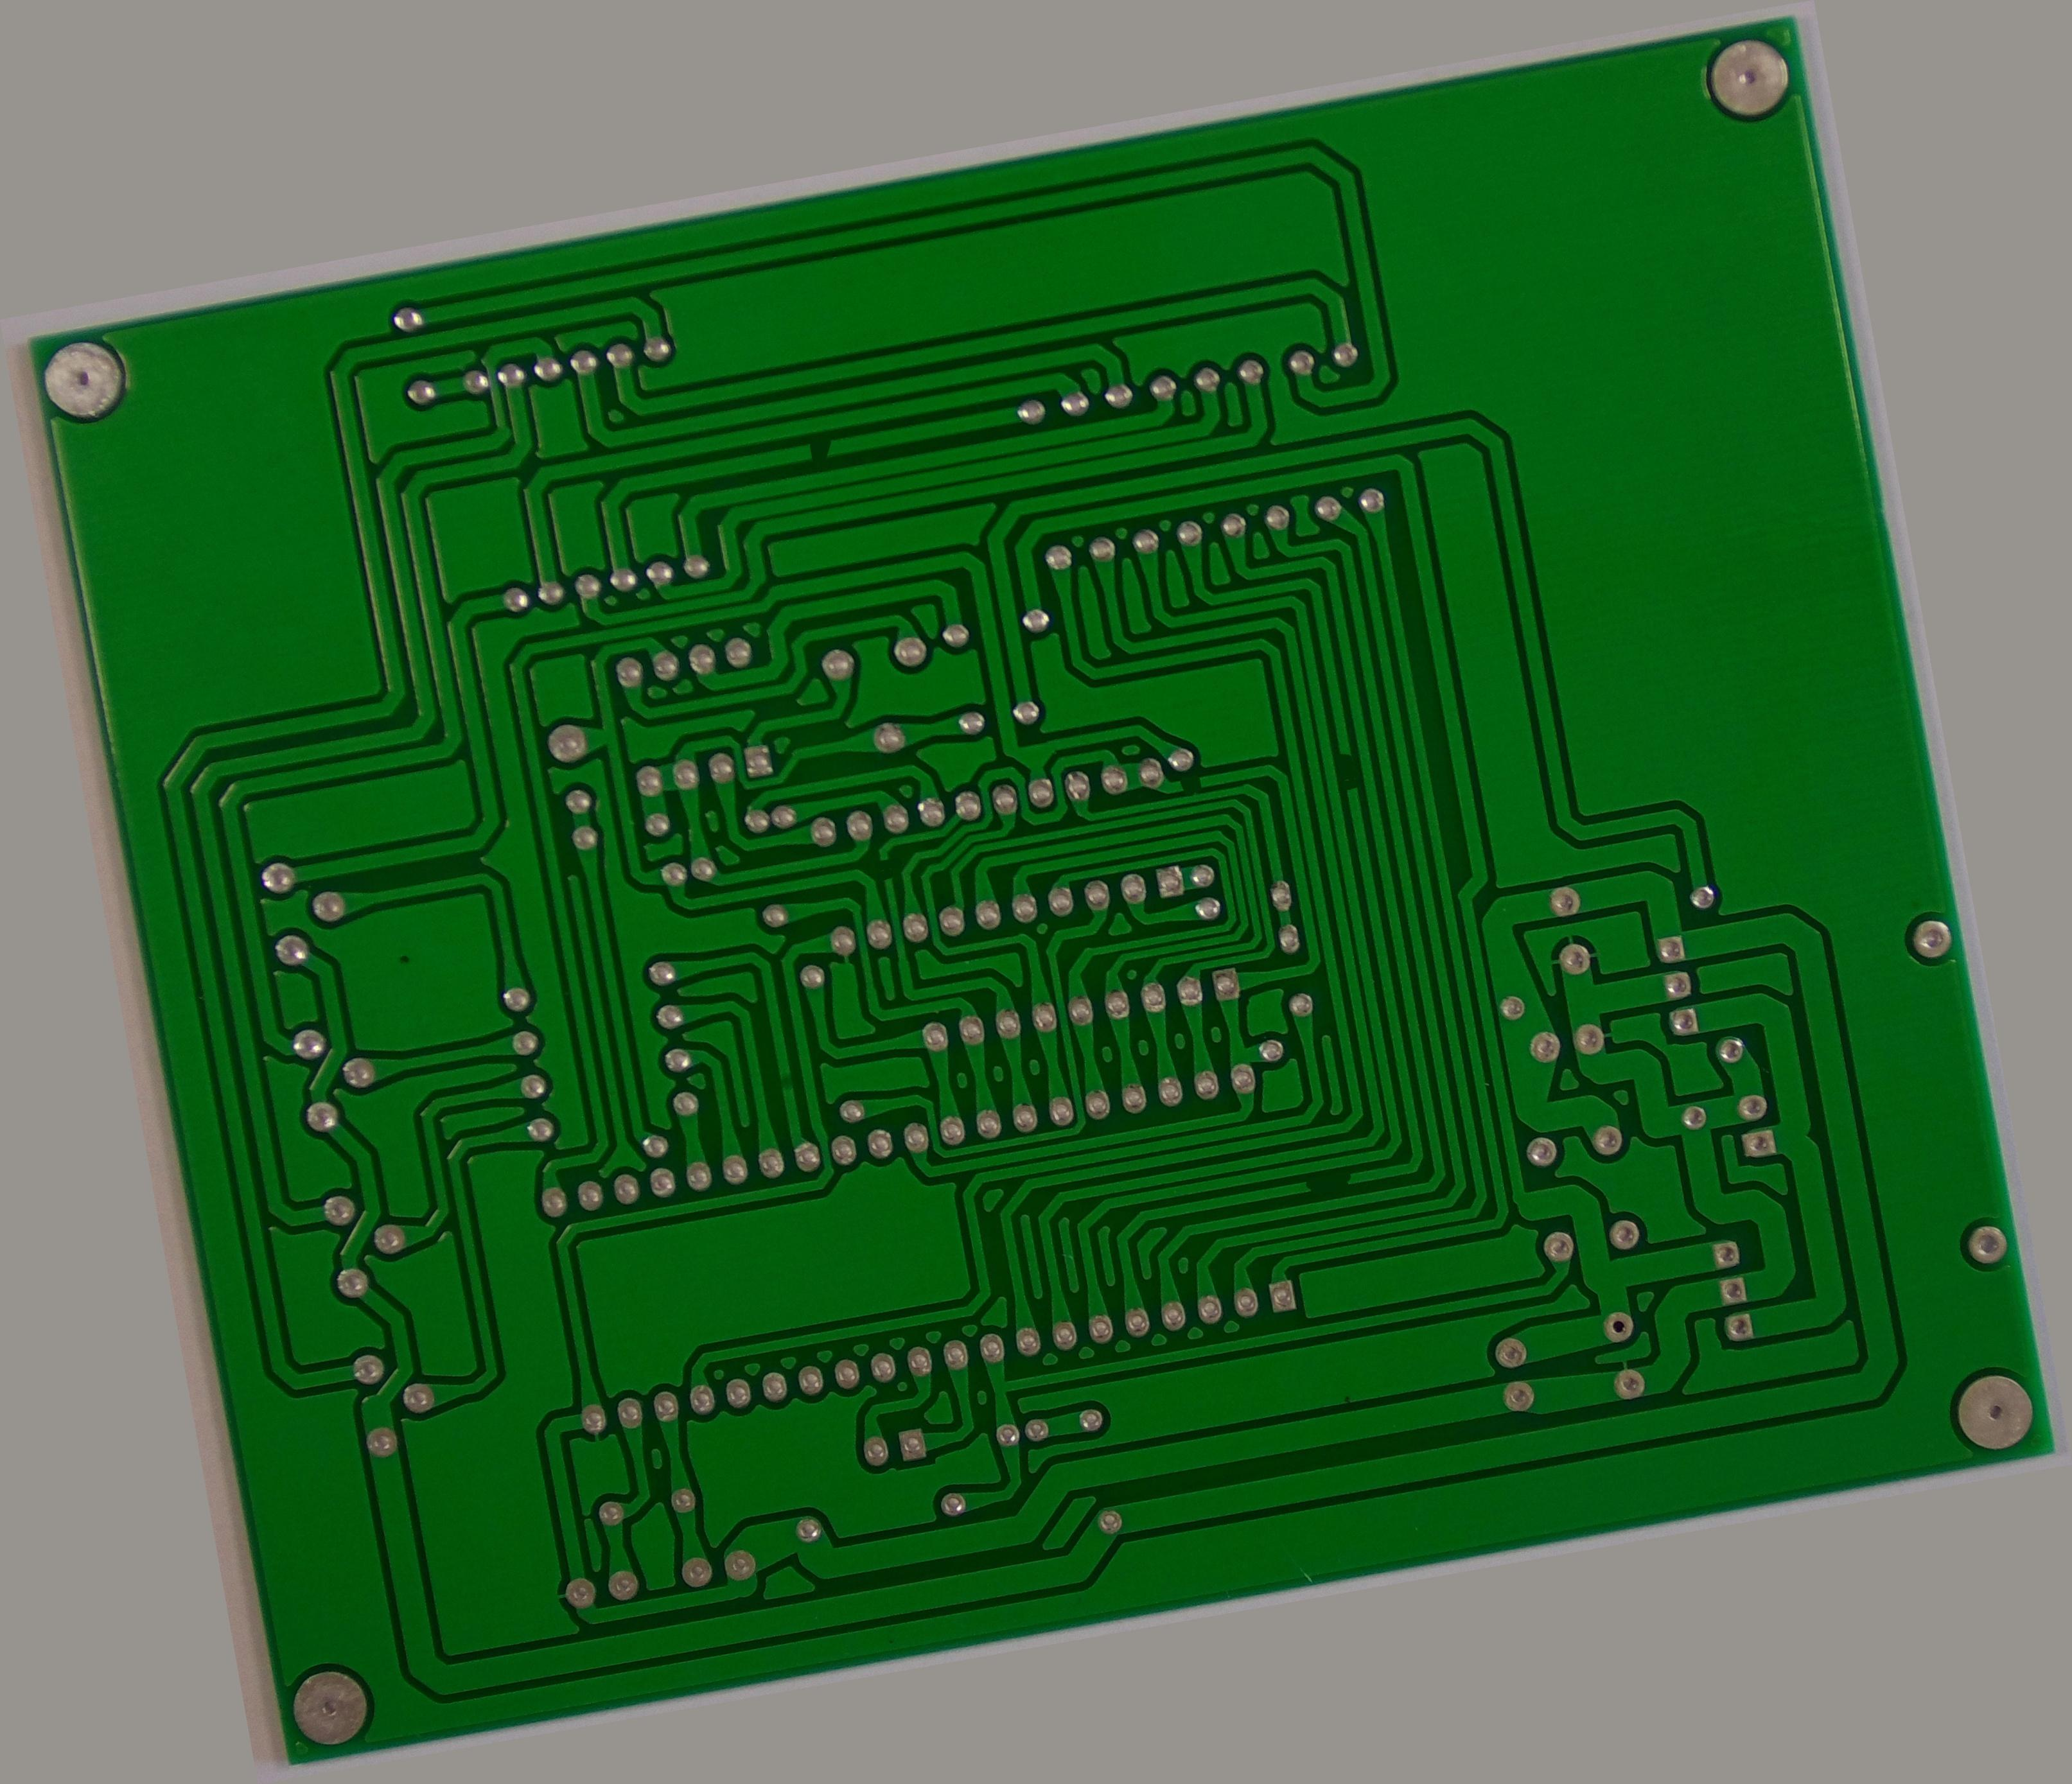open_circuit: (862, 303, 904, 349), (1270, 1282, 1334, 1310), (1392, 787, 1418, 849), (1209, 782, 1249, 812), (863, 817, 886, 854)
